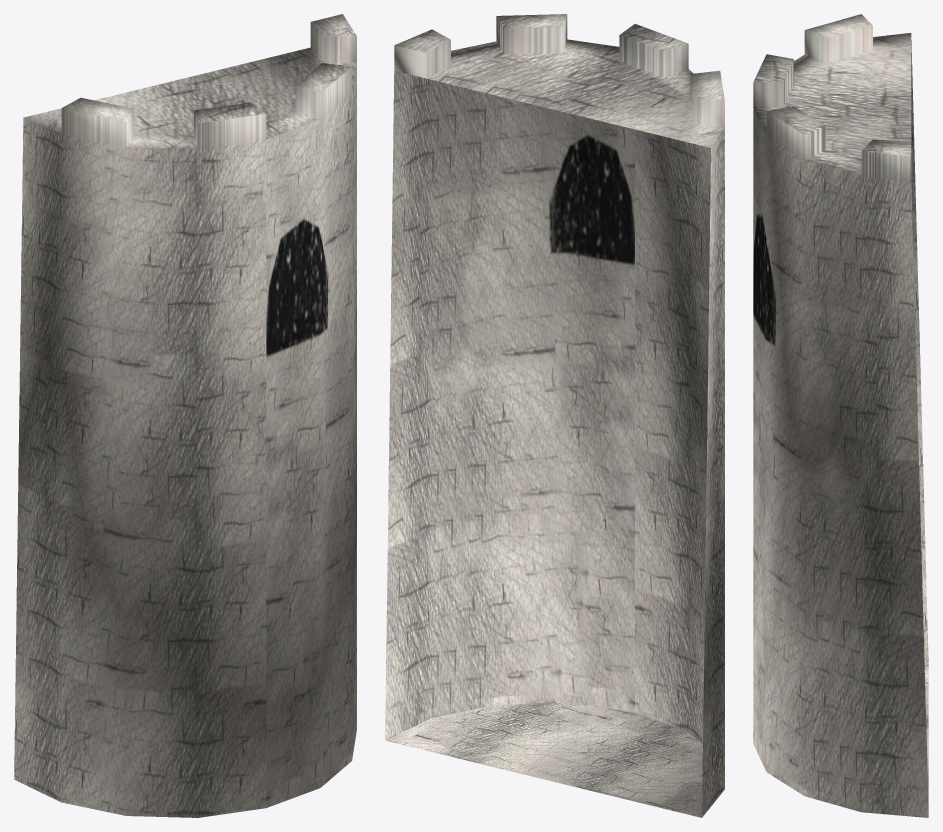
The model's file is Torre.fbx.
3 renders of one model, left to right at view 1: azimuth 30°, elevation 25°; view 2: azimuth 150°, elevation 25°; view 3: azimuth 270°, elevation 25°, orthographic. The views are drawn at different scales.
Visible parts, largest first — view 1: Cylinder; view 2: Cylinder; view 3: Cylinder.
Part boxes in pixels (x1,y1,x2,y2): Cylinder: [14, 14, 356, 817]; Cylinder: [385, 14, 724, 817]; Cylinder: [753, 14, 928, 817].
Bounding box in the file's own units: 50 × 104 × 25.
